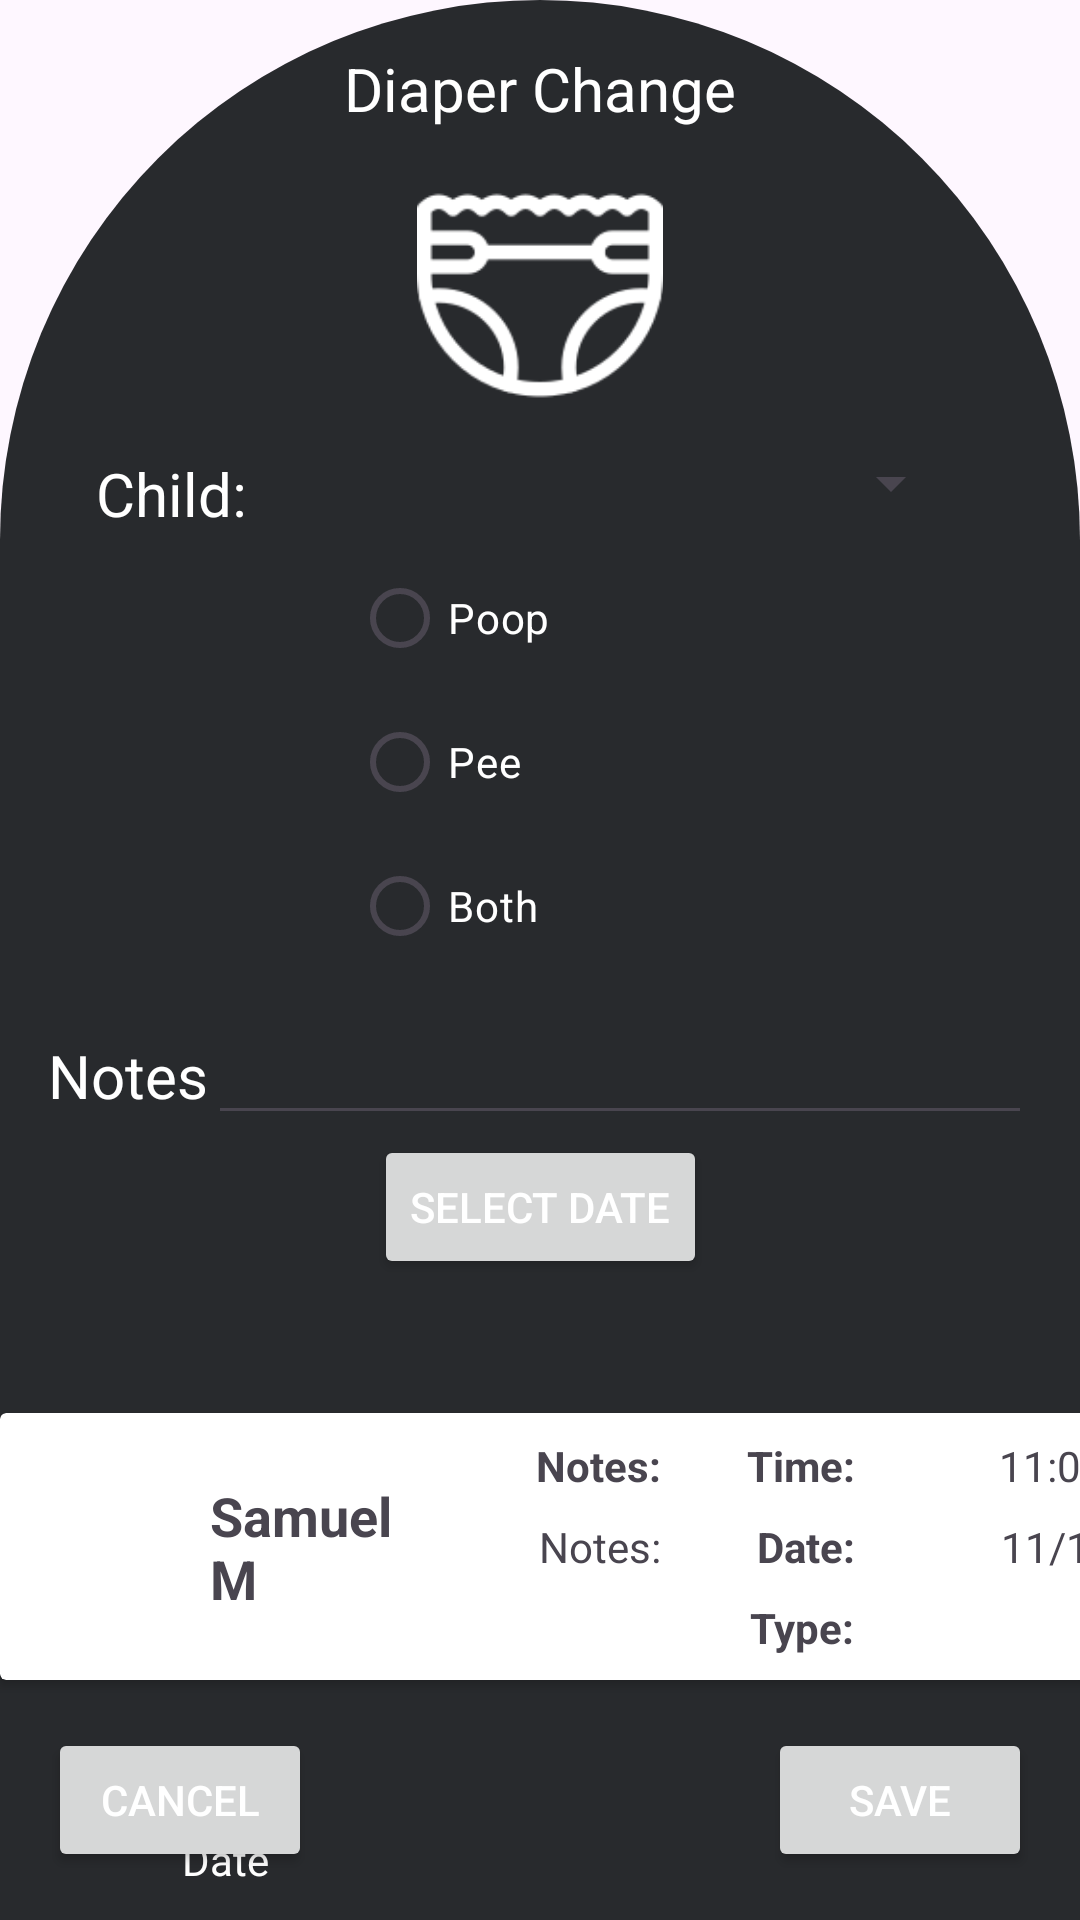

Screen size 1080w x 1920h. Icon name, then its box in pixels as (x1, y1, x2, y2):
baby diaper one: (417, 193, 663, 398)
